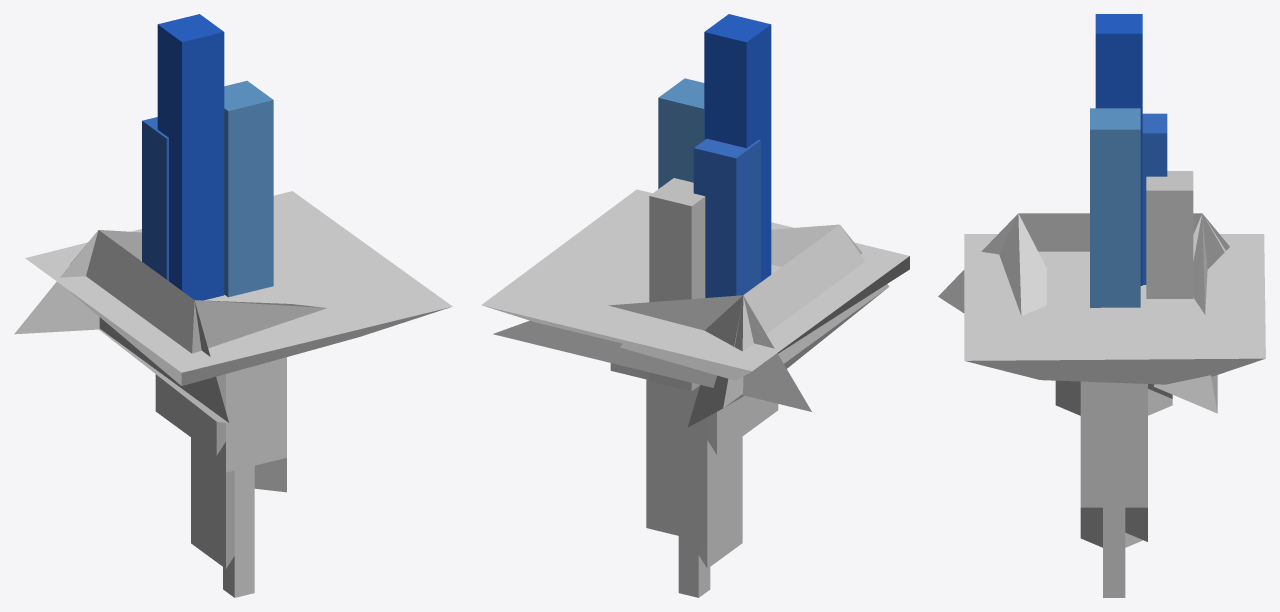
File: blue 1.fbx
3 renders of one model, left to right at view 1: azimuth 30°, elevation 25°; view 2: azimuth 150°, elevation 25°; view 3: azimuth 270°, elevation 25°, orthographic. The views are drawn at different scales.
Visible parts, largest first — view 1: Cube.005, Cube.003, Cube, Cube.002; view 2: Cube.005, Cube.003, Cube.002, Cube.001, Cube; view 3: Cube.005, Cube, Cube.001, Cube.003, Cube.002.
Boxes of the visible parts, x1,y1,x2,y2 form: Cube.005: [14, 191, 452, 597]; Cube.003: [157, 14, 224, 300]; Cube: [224, 80, 273, 297]; Cube.002: [142, 117, 168, 280]; Cube.005: [481, 189, 909, 597]; Cube.003: [704, 14, 771, 281]; Cube.002: [693, 138, 760, 297]; Cube.001: [649, 178, 705, 391]; Cube: [658, 78, 704, 188]; Cube.005: [938, 213, 1265, 597]; Cube: [1090, 108, 1140, 307]; Cube.001: [1146, 171, 1193, 298]; Cube.003: [1095, 14, 1142, 285]; Cube.002: [1142, 113, 1167, 284].
Bounding box in the file's own units: 937 × 1613 × 875.
